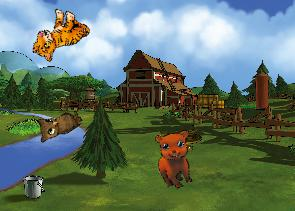bear: (147, 124, 206, 193)
owl: (30, 98, 84, 147)
tiger: (28, 2, 93, 71)
